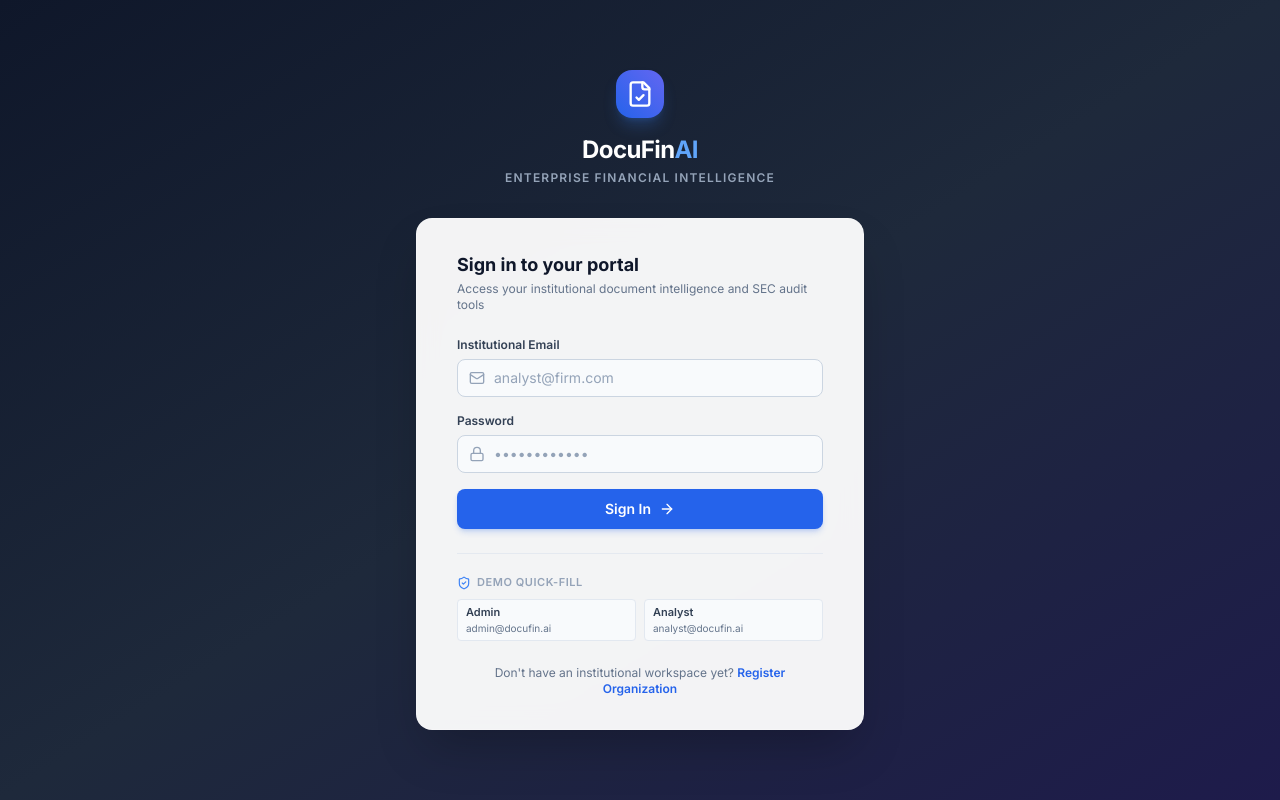
it: LoginPage › displays error if submitted with empty credentials
Click the button "Sign In" at coordinates (640, 509), box [457, 489, 823, 529]
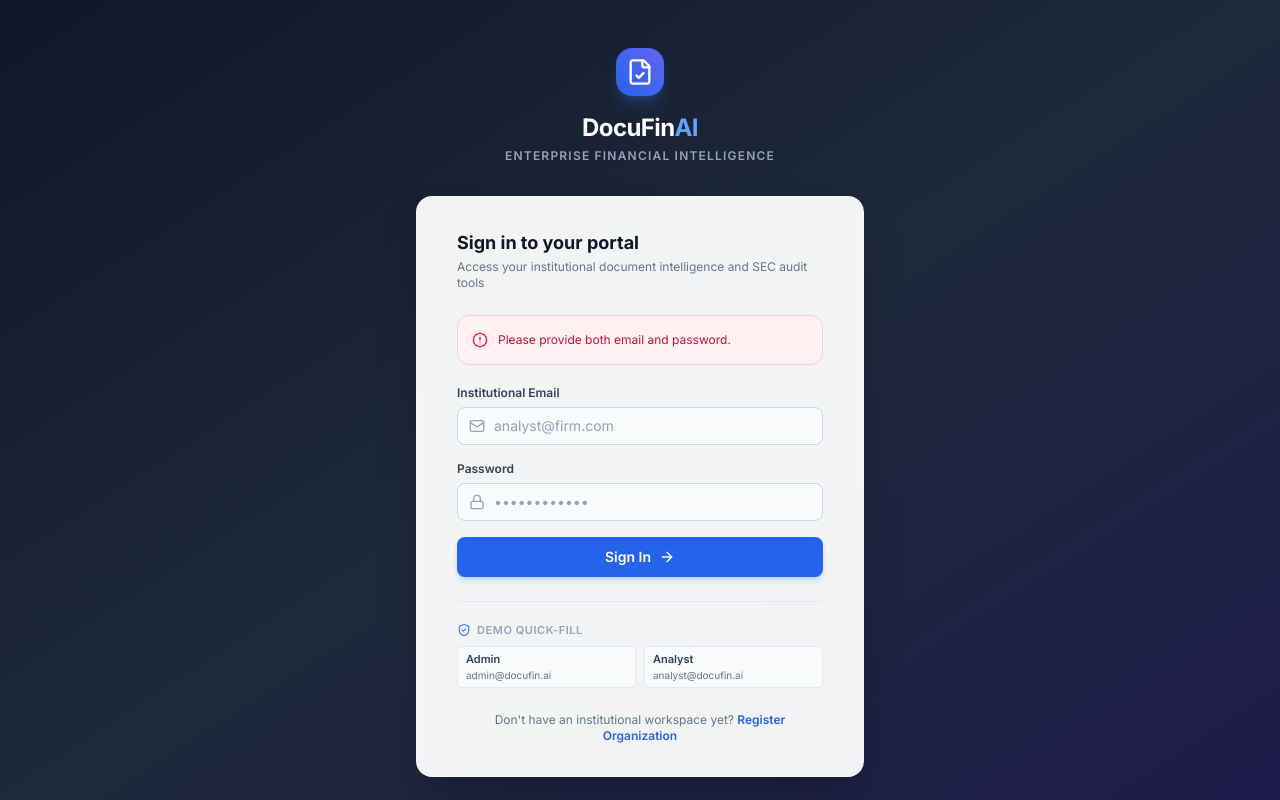
Expected: the text "Please provide both email and password." is shown, [498, 330, 731, 350]
